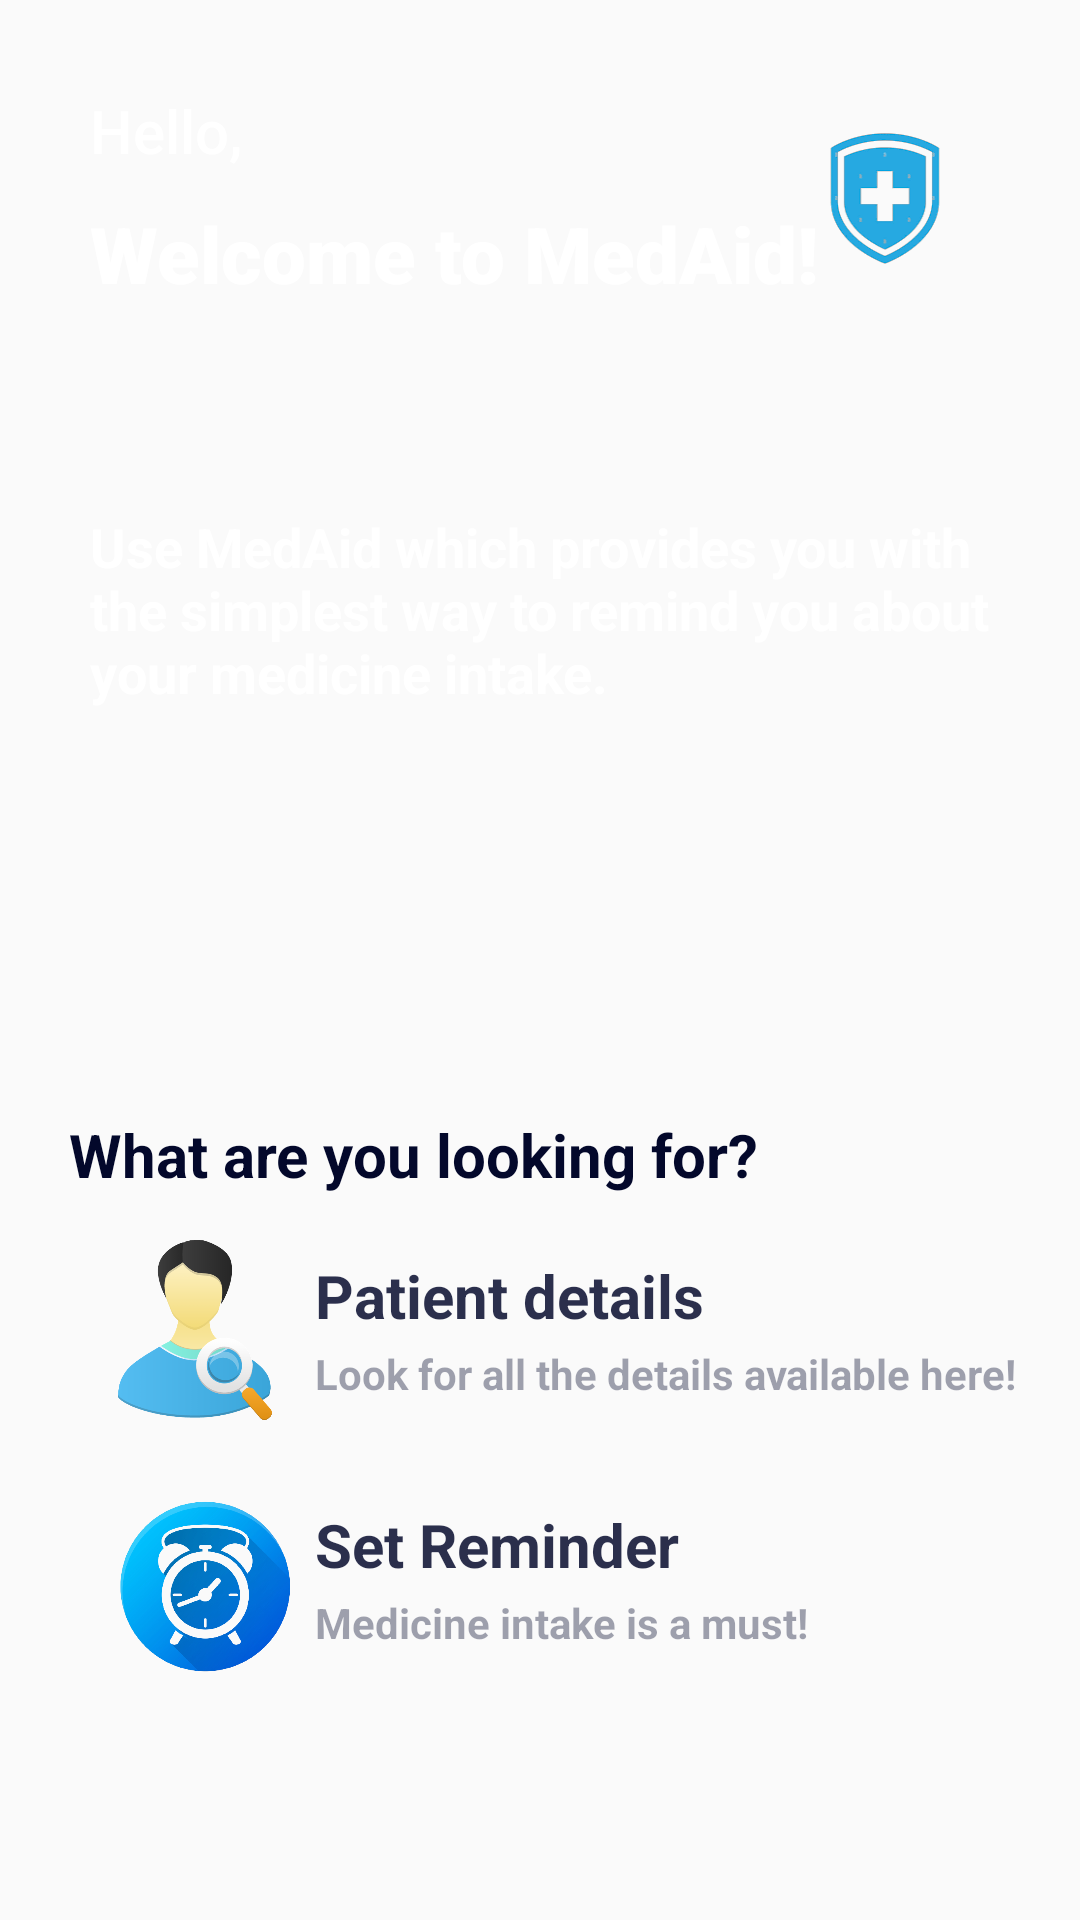

Where to tap for icons on this 1080x1920 app screen, as point (x, y):
clock: point (205, 1587)
